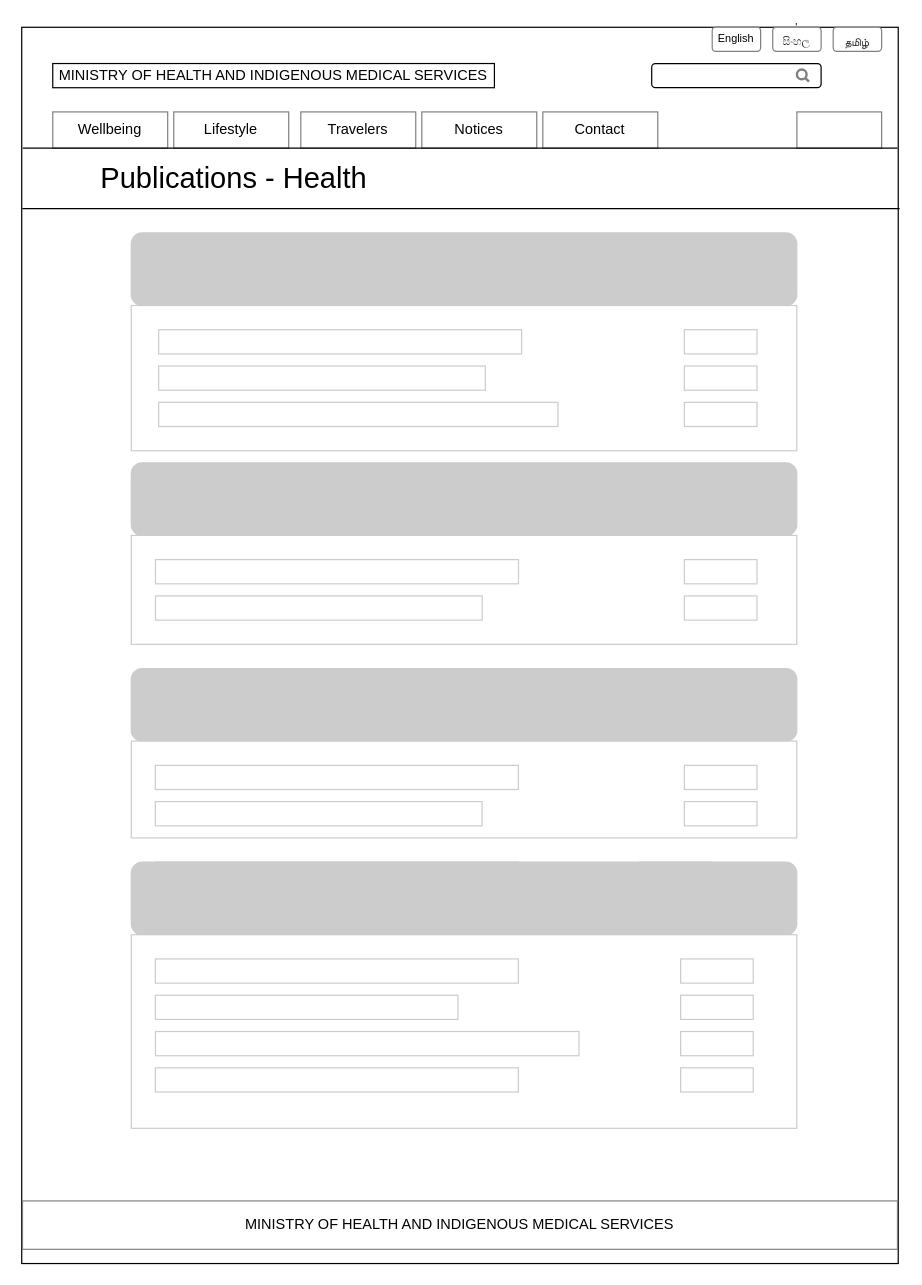
The diagram is 922 pixels wide and 1285 high, and some of its shapes have lost their labels. Each missing label, with the centre of its shape:
Login: the point at 839,129
Search: the point at 735,75
